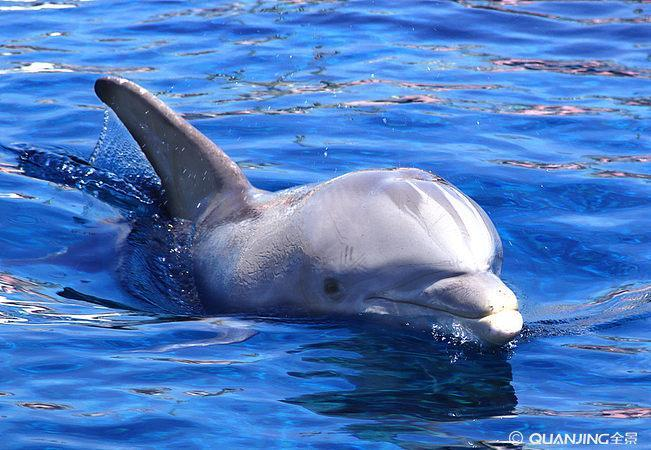fish: (26, 73, 526, 350)
